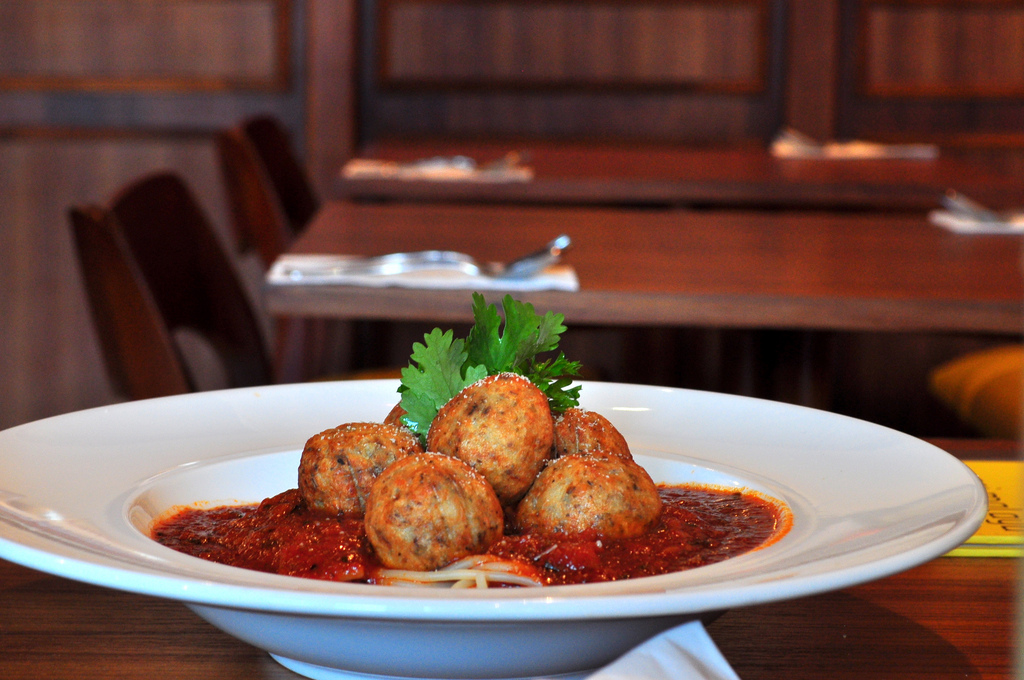meatballs: (362, 454, 504, 574), (425, 380, 562, 500), (527, 439, 664, 555), (288, 420, 426, 522)
